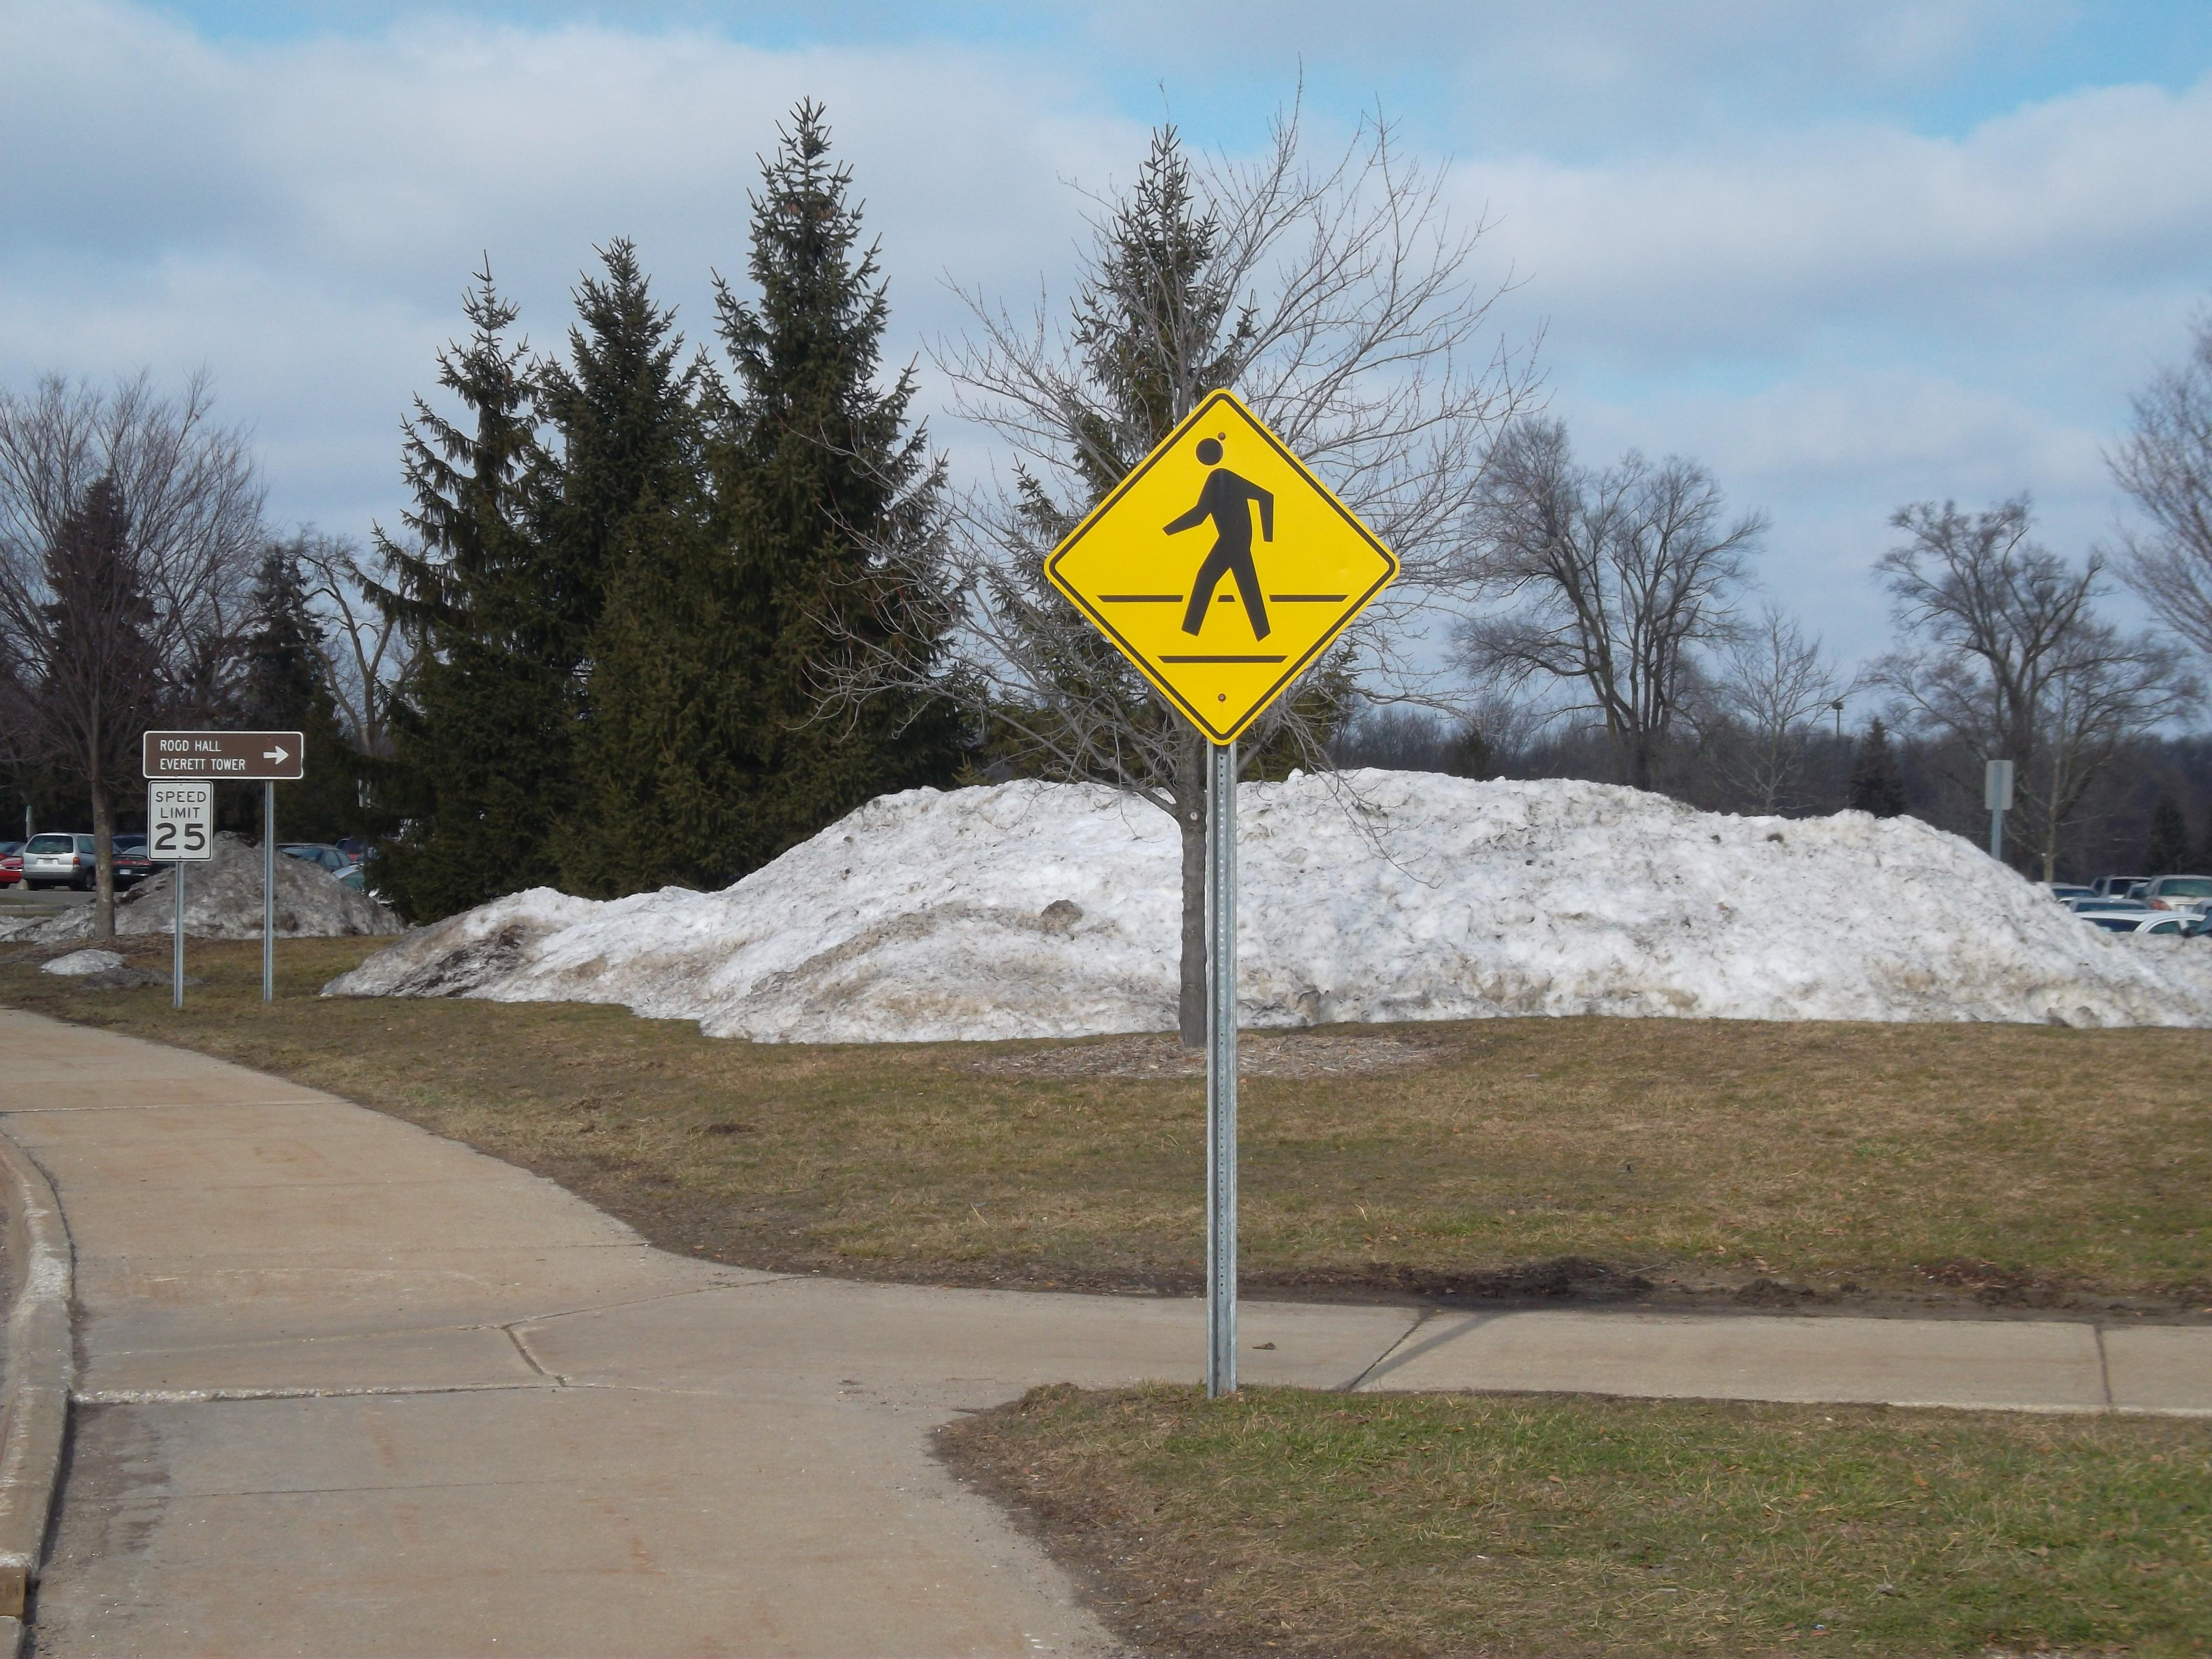regulatory: (145, 779, 216, 870)
warning: (1028, 361, 1404, 777)
